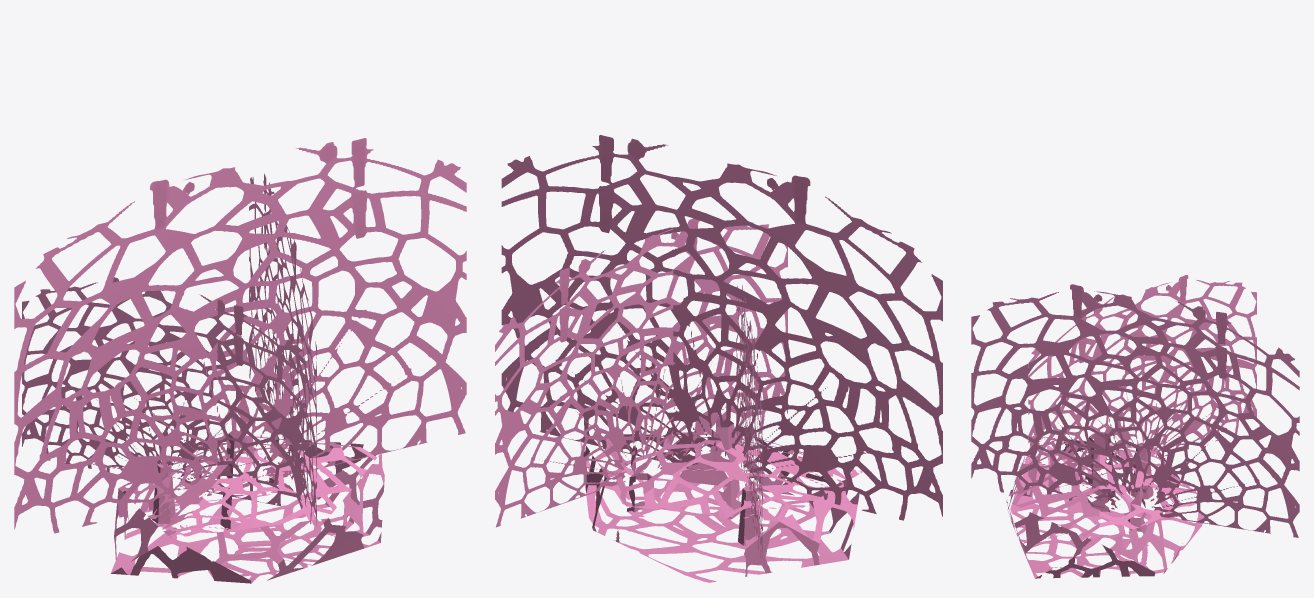
File: coral_fan_a.gltf
3 views of the same model, side by side, from view 1: azimuth 30°, elevation 25°; view 2: azimuth 150°, elevation 25°; view 3: azimuth 270°, elevation 25° (orthographic). The views are drawn at different scales.
Visible parts, largest first — view 1: coral_fan_a; view 2: coral_fan_a; view 3: coral_fan_a.
Part boxes in pixels (left/top/right/bottom): coral_fan_a: left=14, top=138, right=466, bottom=583; coral_fan_a: left=495, top=135, right=942, bottom=582; coral_fan_a: left=971, top=275, right=1299, bottom=578.
Bounding box in the file's own units: 1.3 × 1.3 × 0.9162.
Materials: 1 (1 with a texture image).
